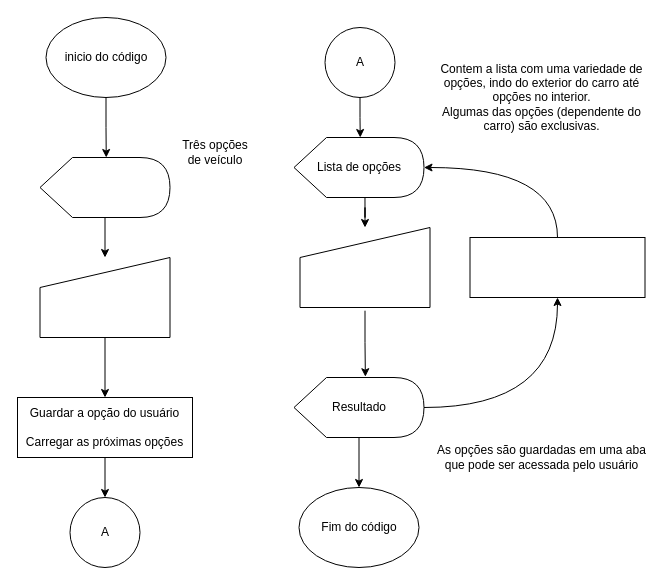
Some shapes in this 670 by 585 pixel diagram are drawn without their labels. The centre of each missing label's shape, as x and y in pixels:
"Mostrar opções" goes at (x=104, y=187).
"Usuário customiza o carro da forma que deseja" goes at (x=364, y=267).
"Usuário escolhe o carro" goes at (x=104, y=297).
"Usuário volta para mudar uma de suas opções" goes at (x=557, y=267).
